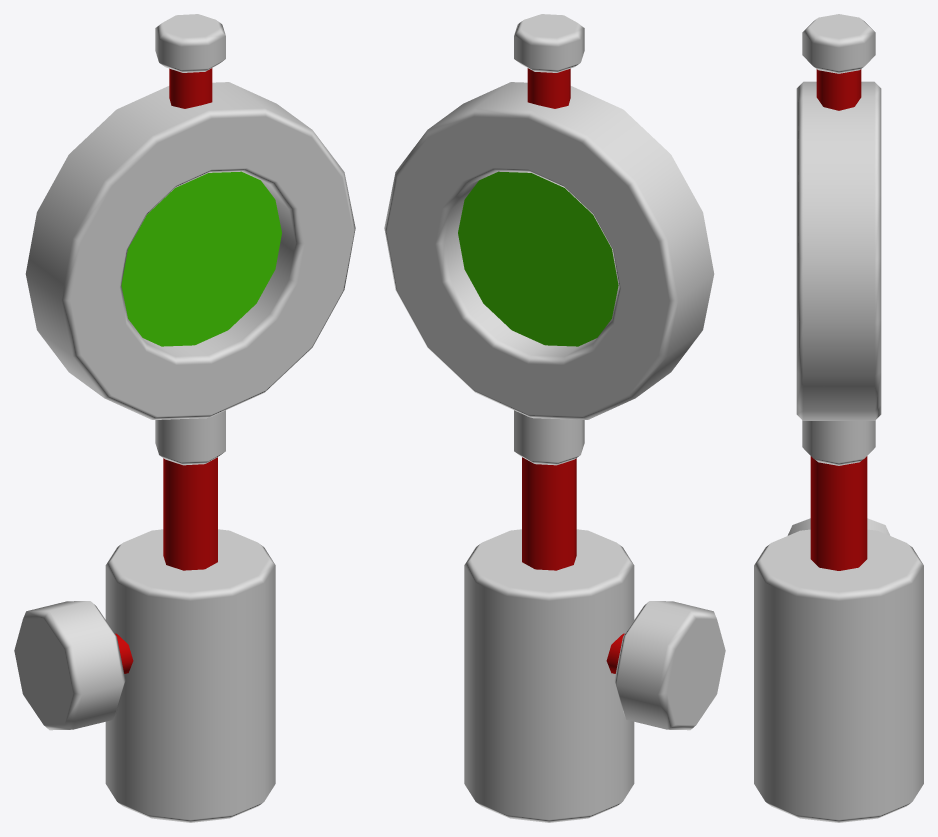
The model's file is Optic01.fbx.
3 renders of one model, left to right at view 1: azimuth 30°, elevation 25°; view 2: azimuth 150°, elevation 25°; view 3: azimuth 270°, elevation 25°, orthographic.
Parts seen in each view (by area): view 1: Optic01; view 2: Optic01; view 3: Optic01.
Part boxes in pixels (box(x1,y1,x2,y2)): Optic01: box(14, 14, 355, 822); Optic01: box(384, 14, 725, 822); Optic01: box(754, 14, 923, 822).
Size of the model in its own units: 5 by 2.5 by 12.41.
